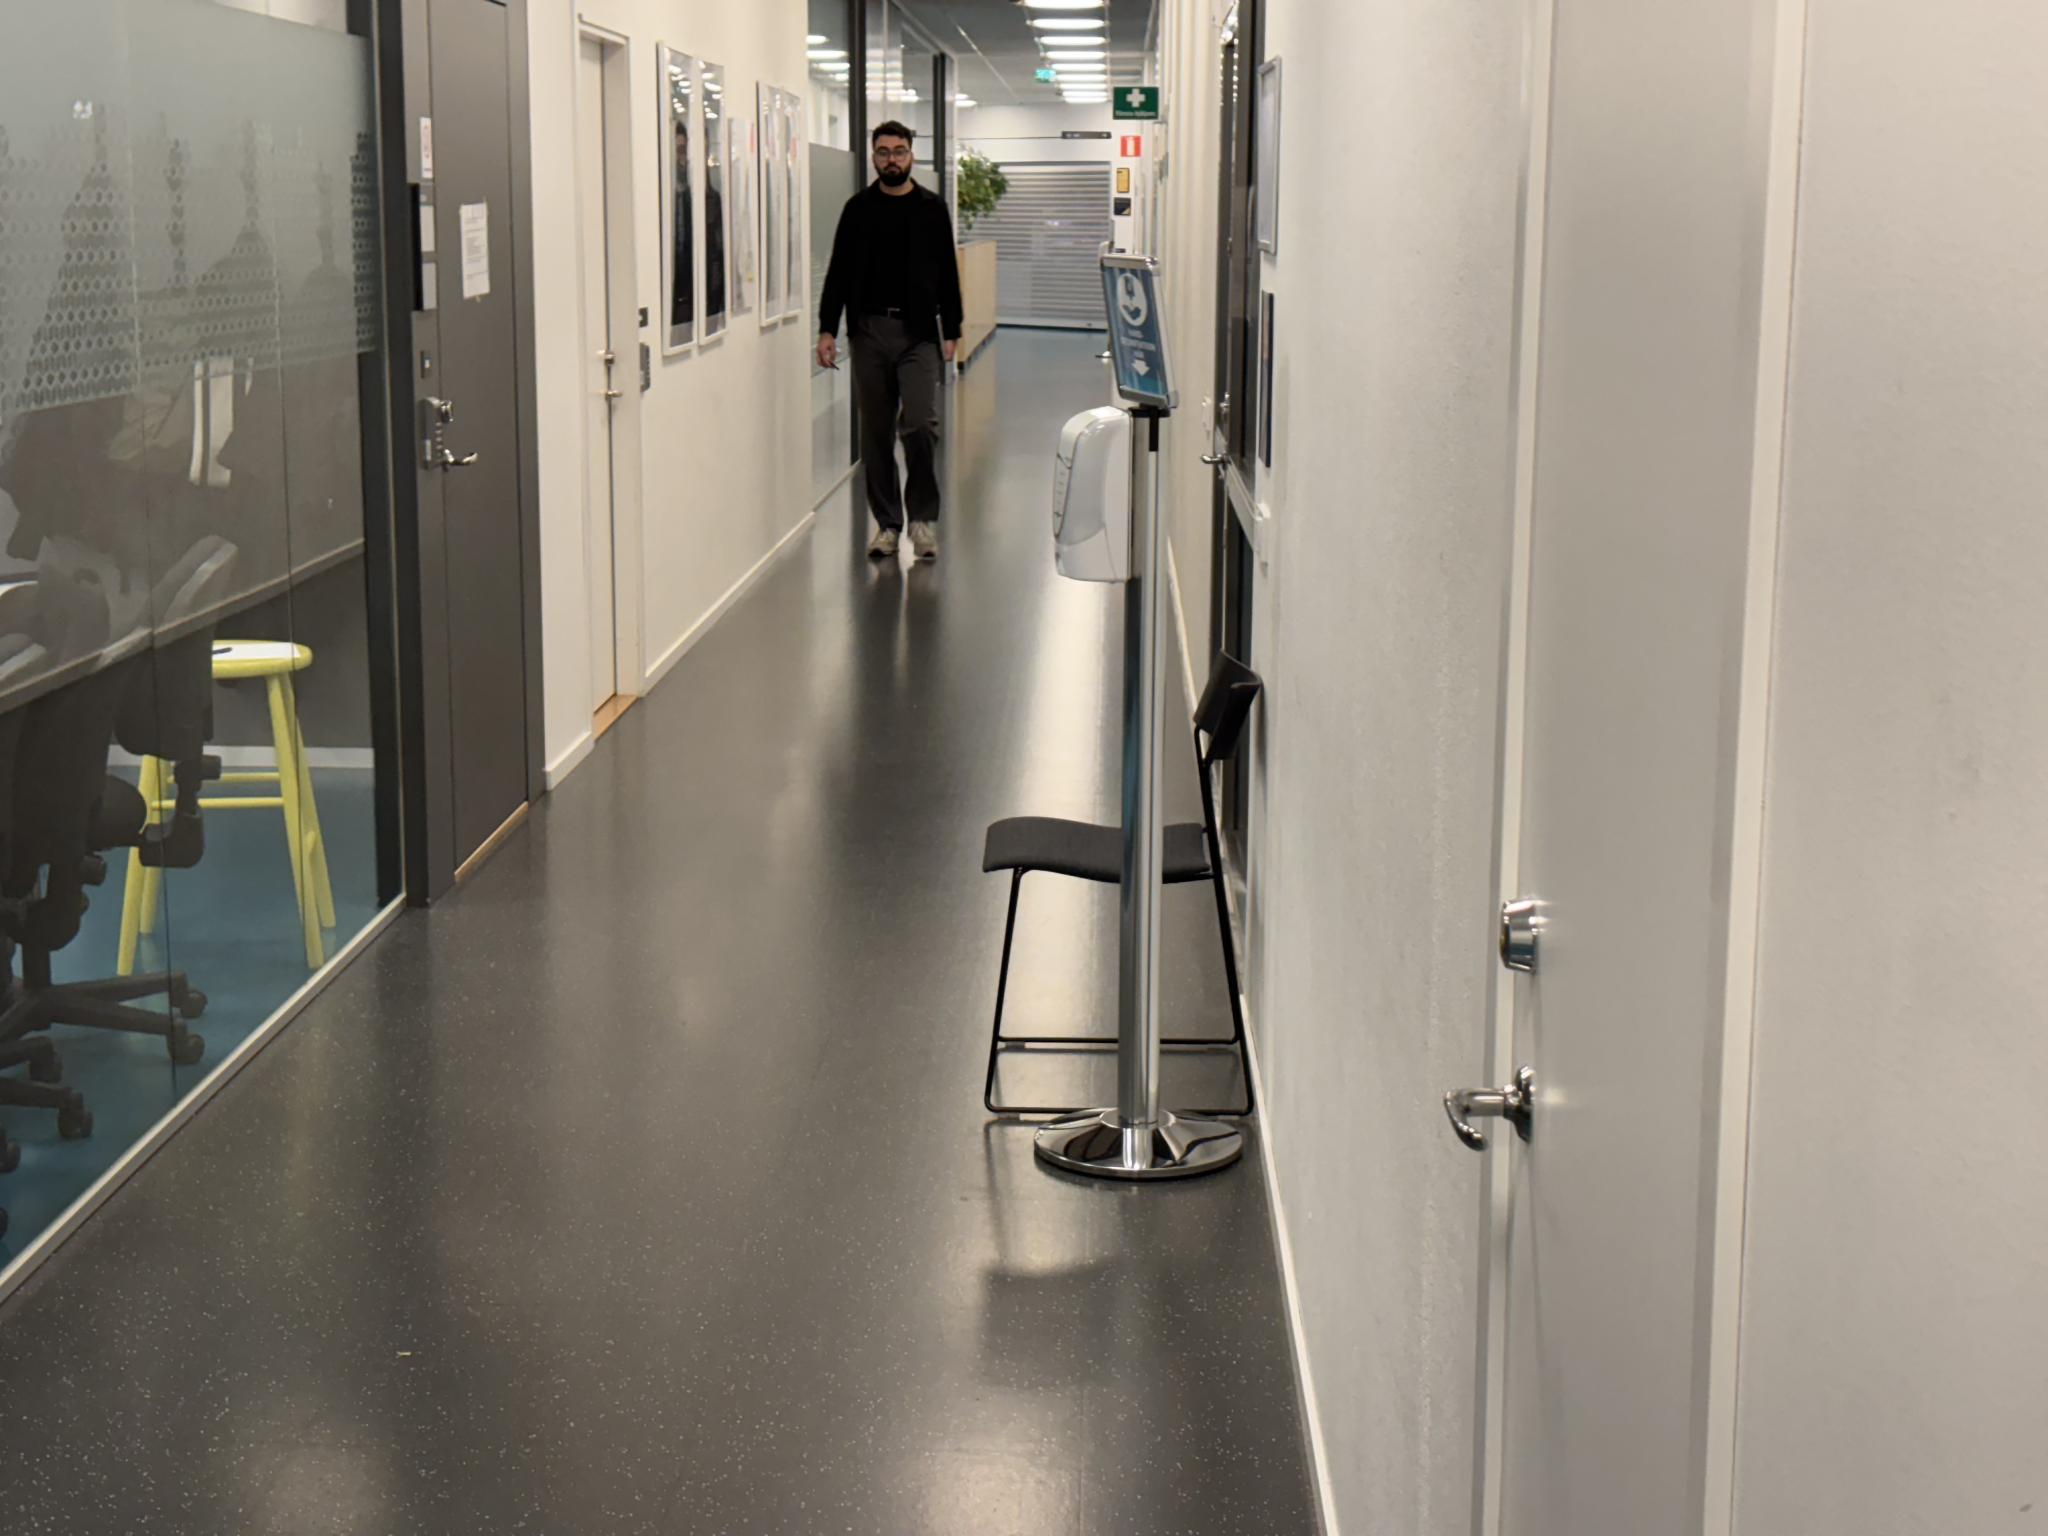exit_sign: (1036, 69, 1060, 84)
person: (824, 125, 958, 556)
